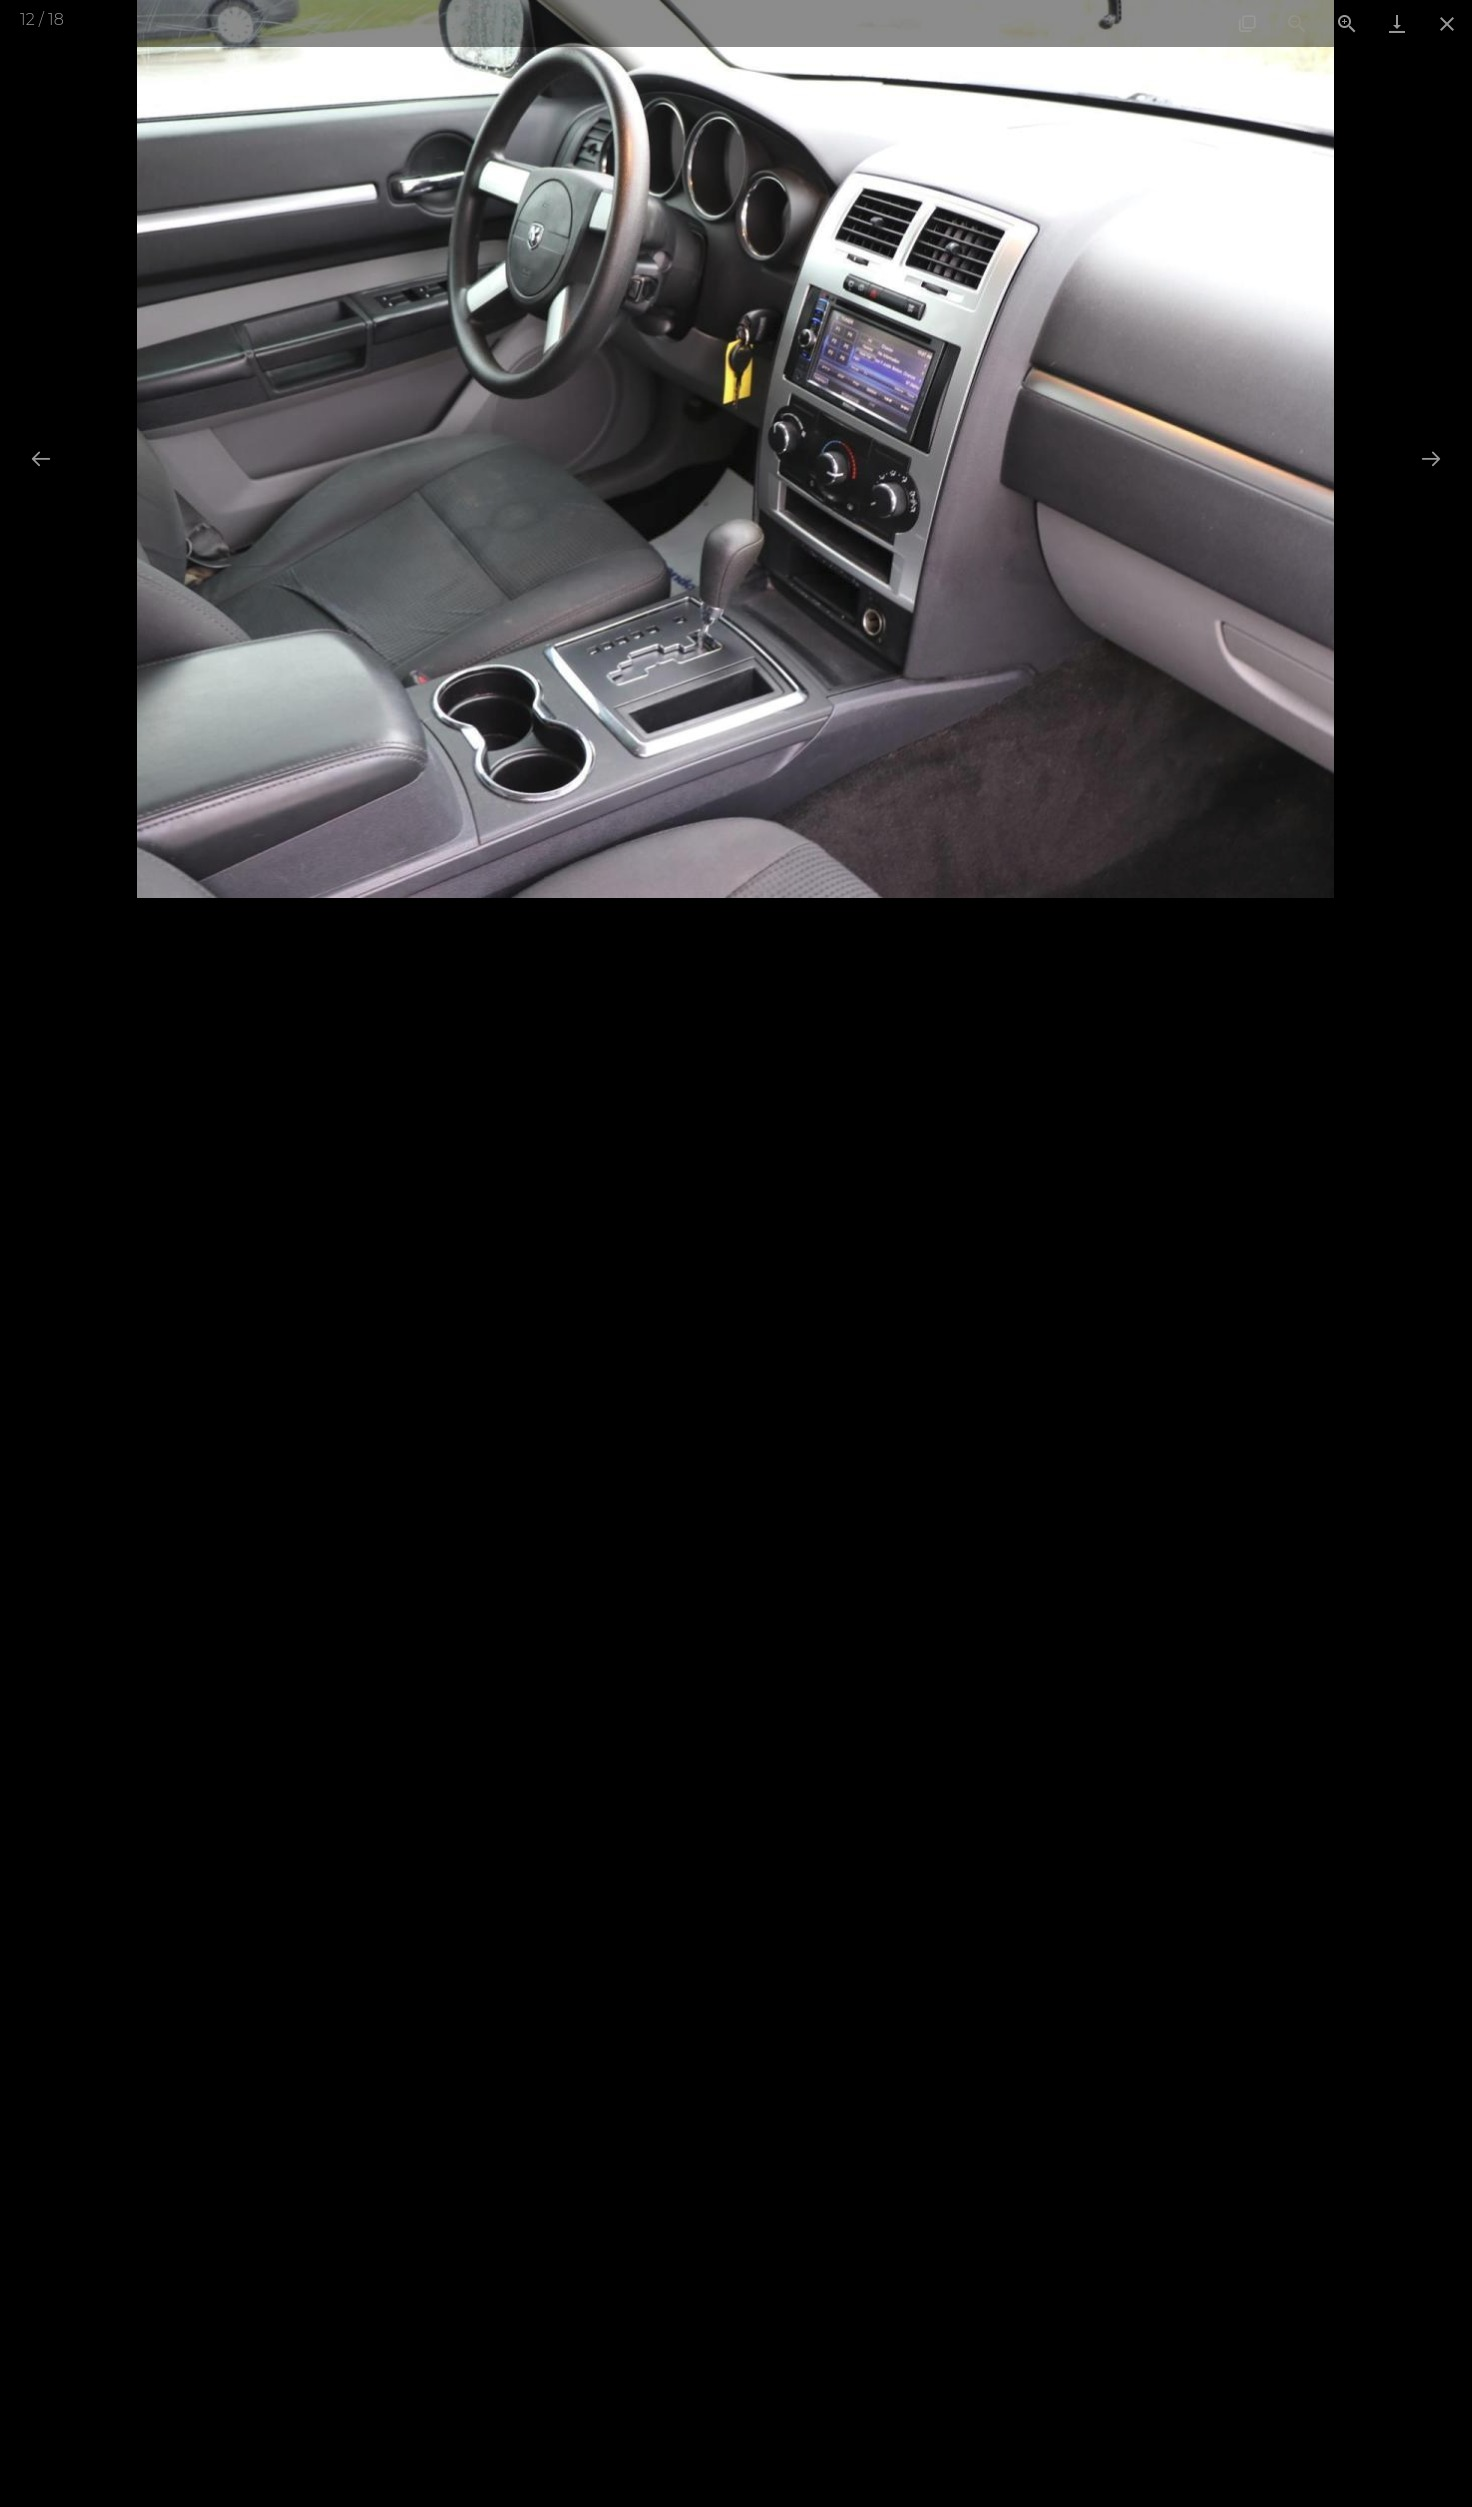car: (1421, 450, 1440, 470)
